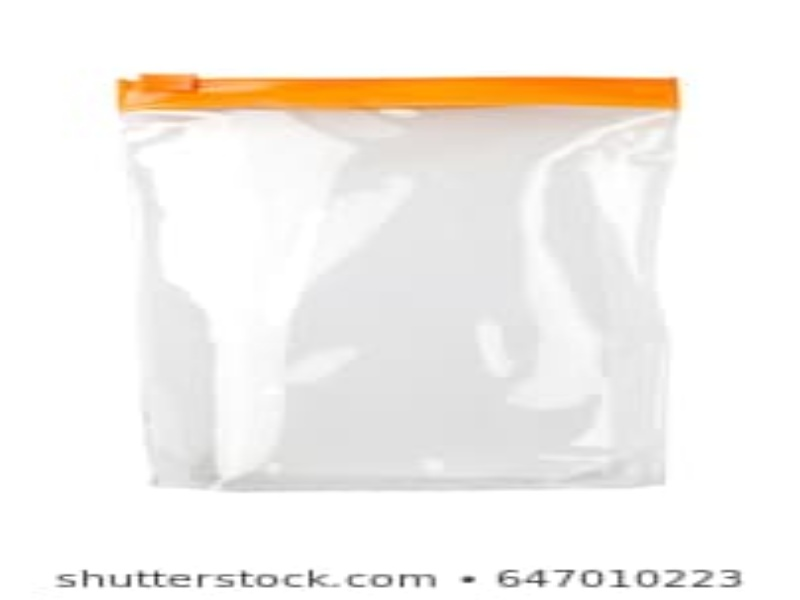plastic-bag: (113, 70, 681, 496)
